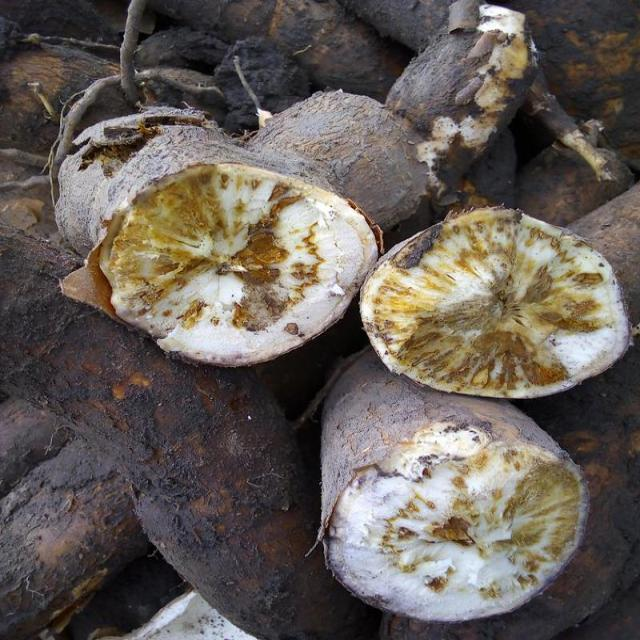cassava leaf: (310, 343, 590, 623), (95, 159, 379, 367), (358, 203, 630, 399)
